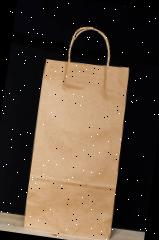paper: (20, 21, 137, 238)
